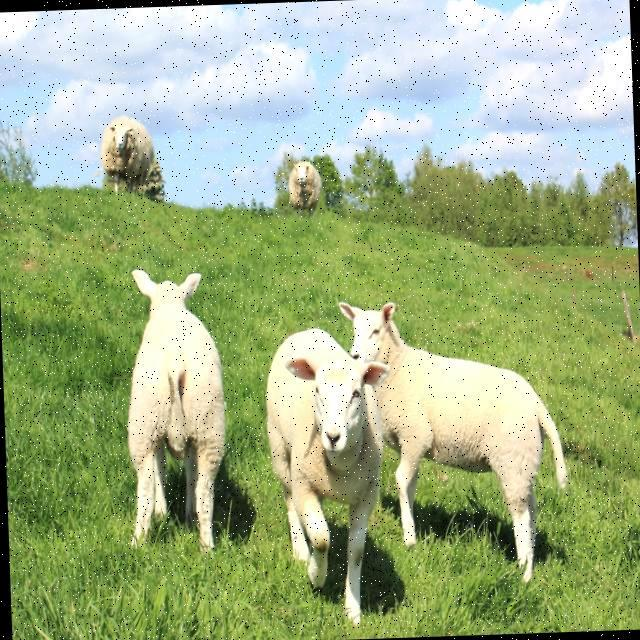sheep: (339, 301, 566, 580), (266, 325, 388, 621), (128, 269, 225, 547), (102, 115, 153, 190), (287, 159, 320, 210)
